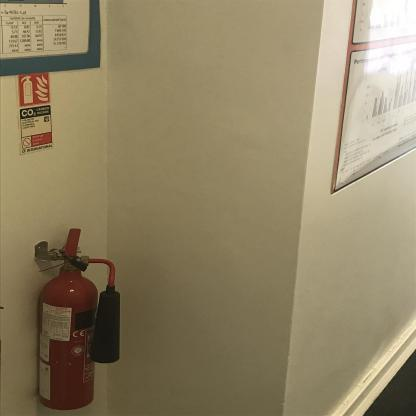Fire Extinguisher: (29, 217, 134, 416)
